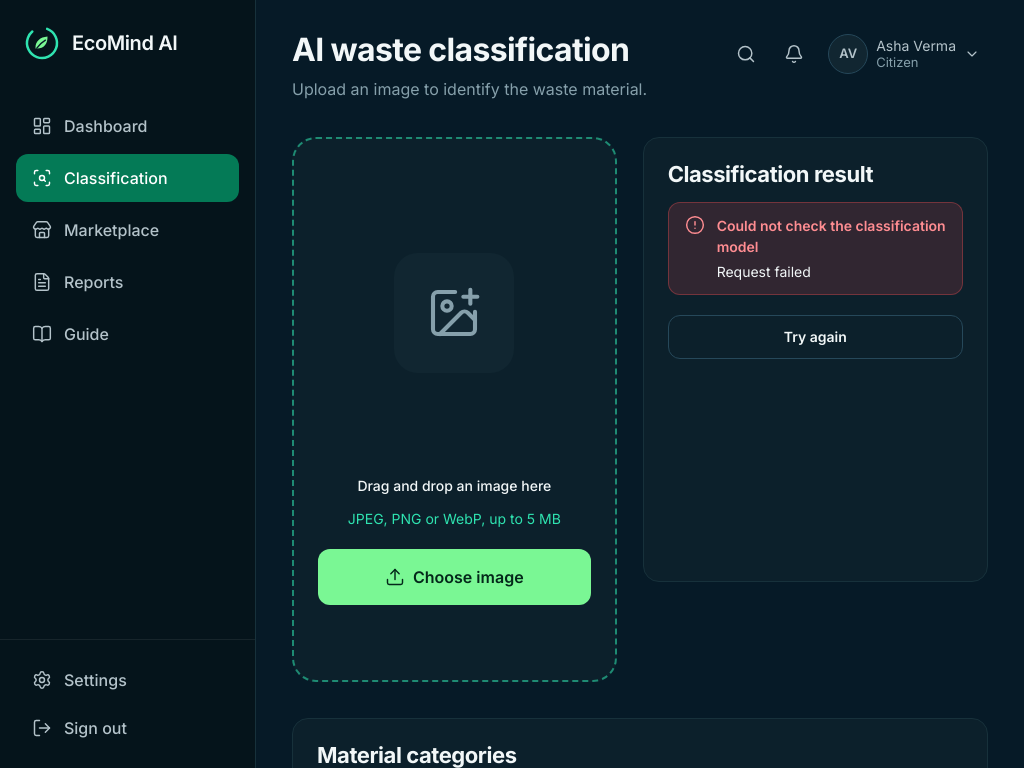
application navigation › the theme choice is stored, applied while signed in, and dropped on public pages
The image size is (1024, 768).
Click the button with aria-label "account menu" at point(904, 54), box [820, 32, 988, 76]
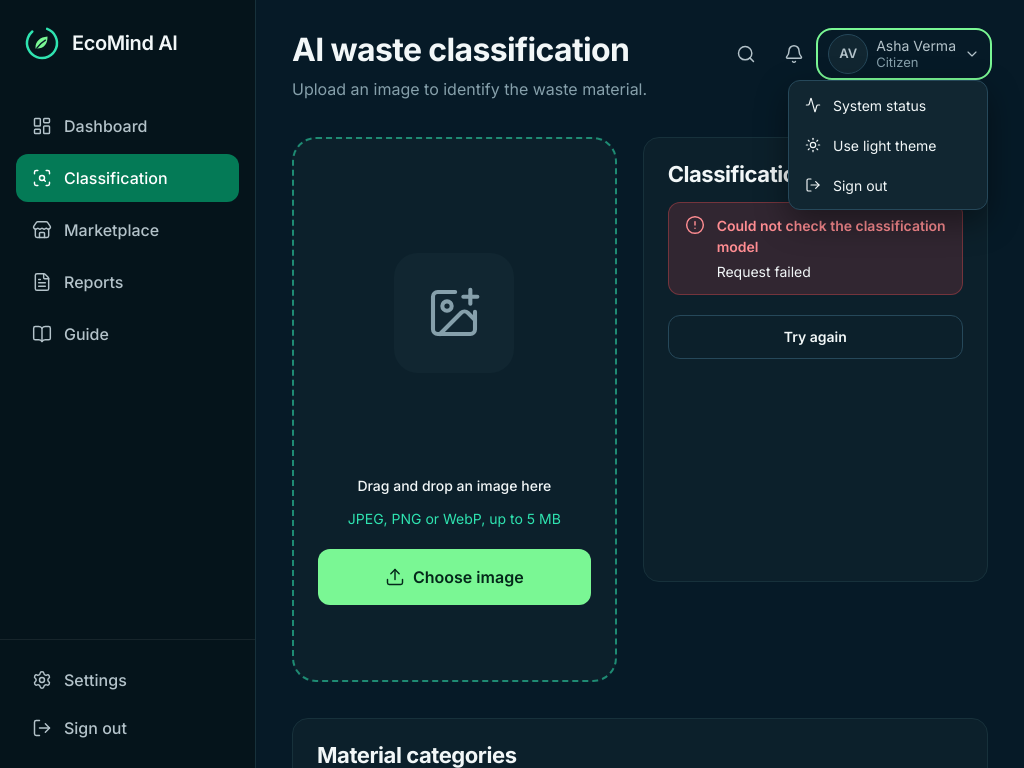
Click the menu item "Use light theme" at point(888, 145), box [793, 125, 983, 165]
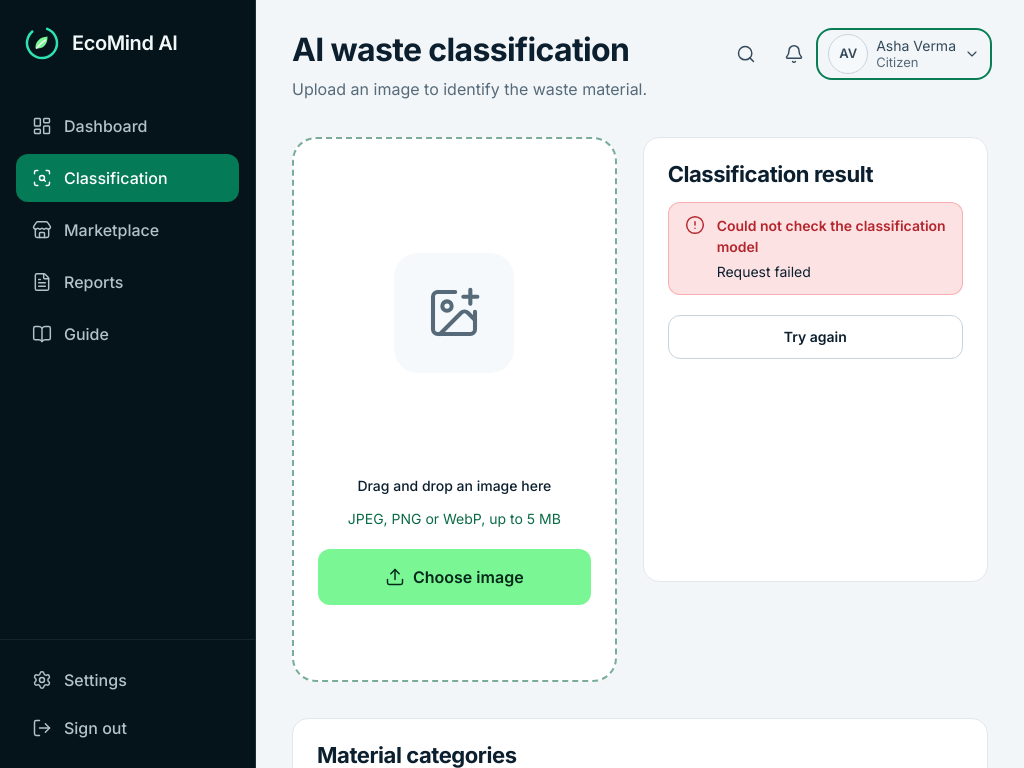
Click the button with aria-label "account menu" at point(904, 54), box [820, 32, 988, 76]
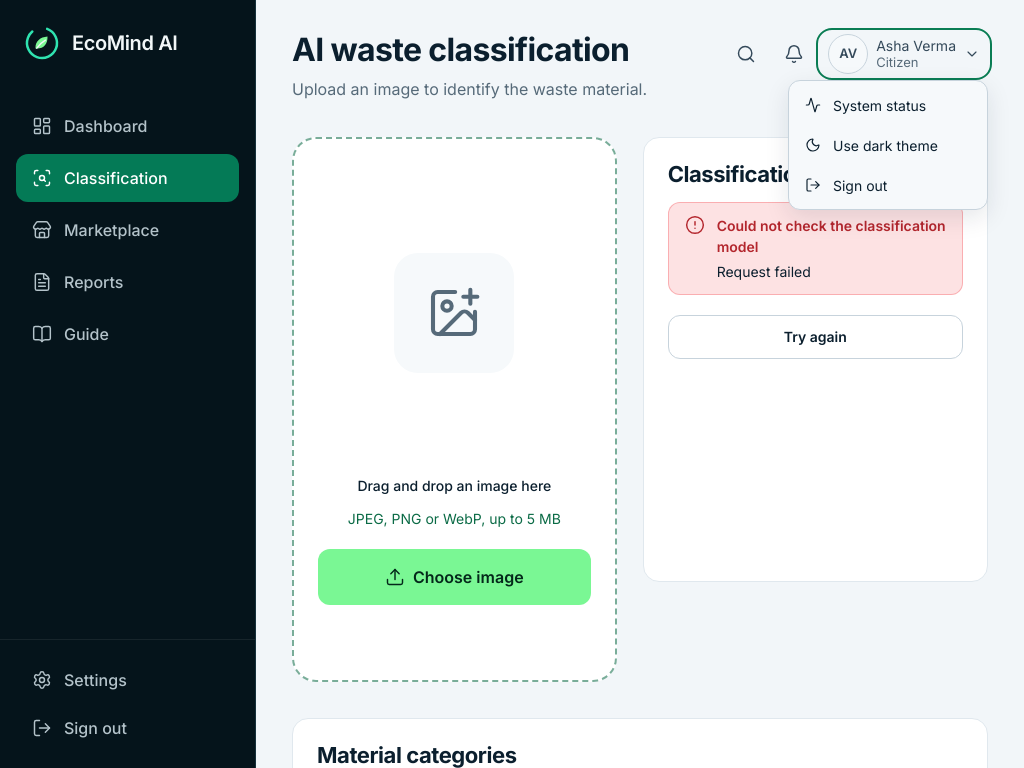
Result: the menu item "Use dark theme" is shown at [793, 125, 983, 165]
